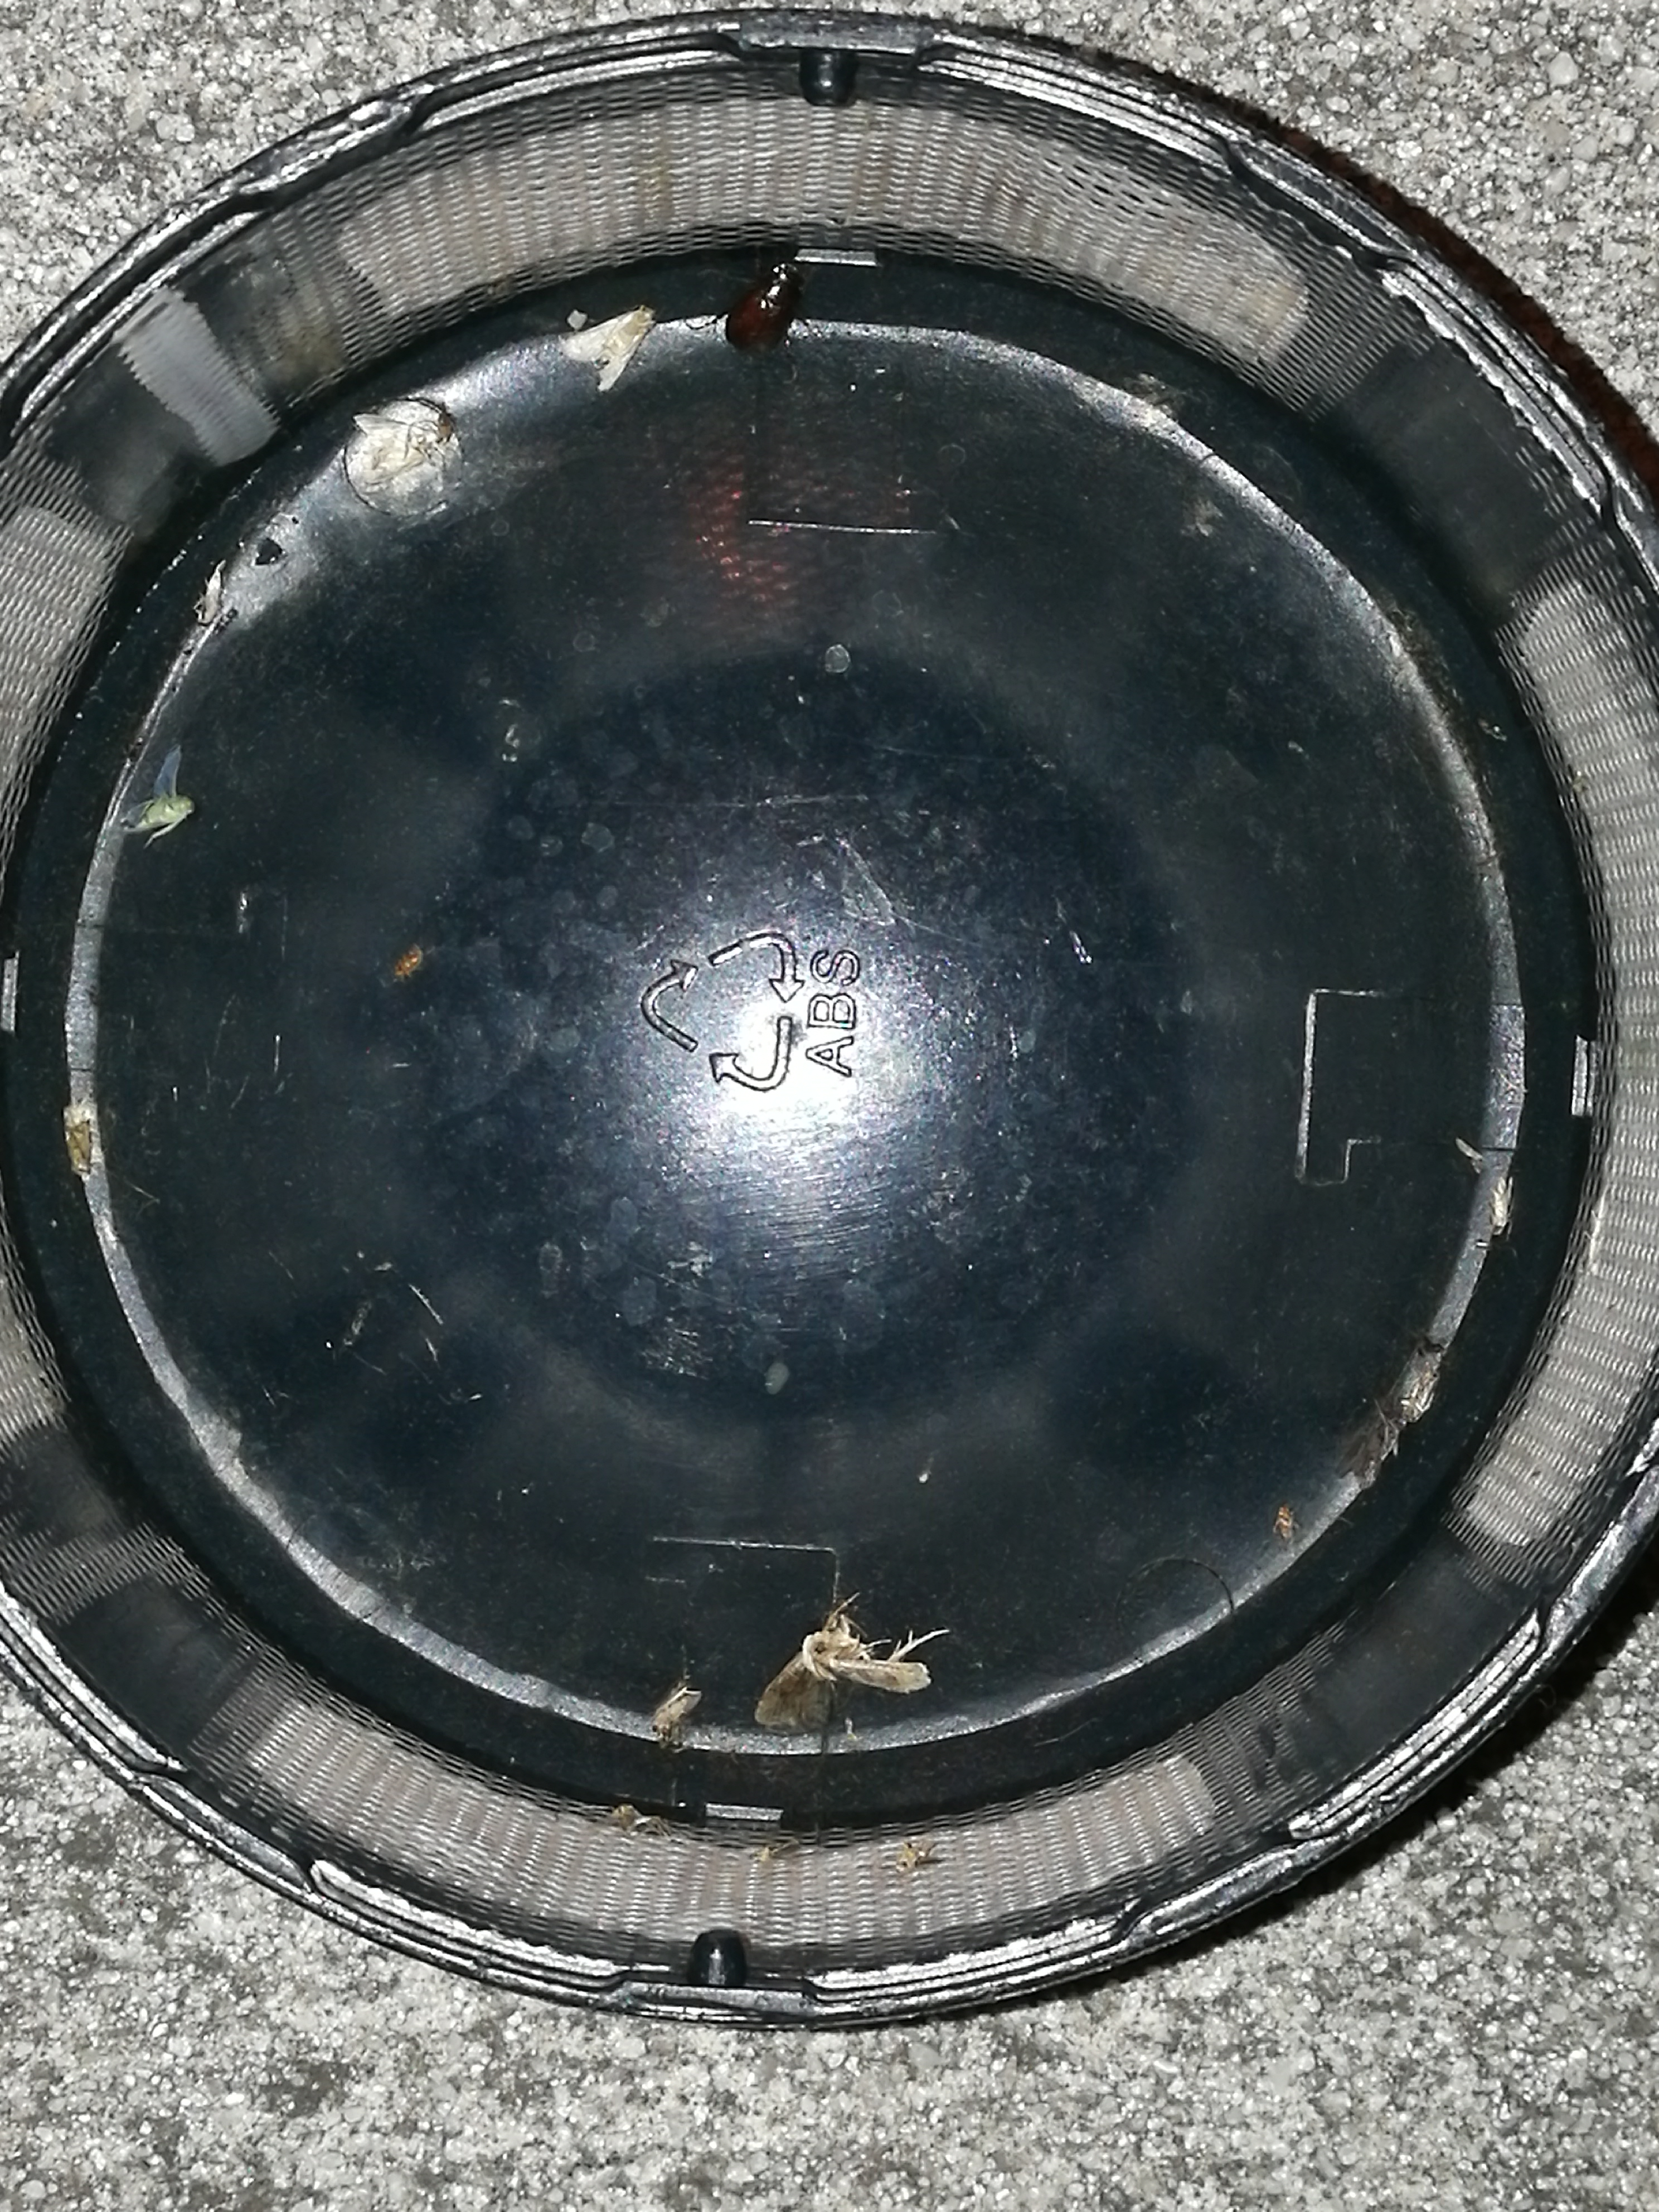beetle: (725, 263, 802, 355)
mosquito: (1398, 1367, 1438, 1426), (648, 1689, 701, 1733), (1493, 1179, 1509, 1233)
moth: (756, 1634, 931, 1731), (565, 305, 655, 390), (354, 413, 439, 482)
